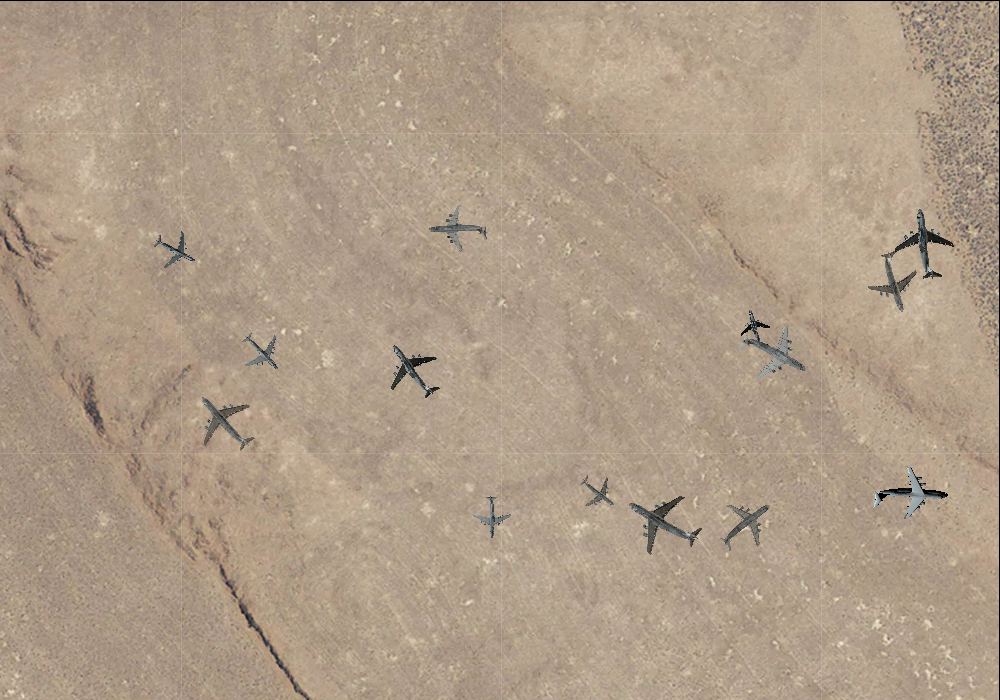plane: (611, 470, 715, 573), (725, 307, 821, 401), (179, 375, 271, 468), (370, 327, 455, 413), (704, 483, 788, 567), (857, 242, 932, 320), (889, 205, 963, 282), (870, 461, 950, 532), (229, 321, 292, 384), (427, 201, 489, 259), (146, 221, 204, 278), (570, 464, 626, 520), (734, 304, 779, 352), (470, 495, 511, 538)
